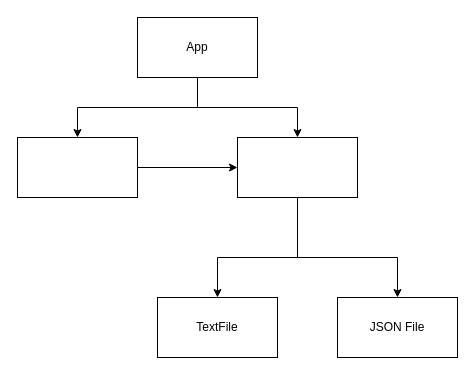
This 475x375 diagram has some shape labels left out. The shapes that lost their labels are listed below. From the top down, each one's centre as x and y in pixels, then its label:
(77,167): DirScrapper
(297,167): Scrapermethods
